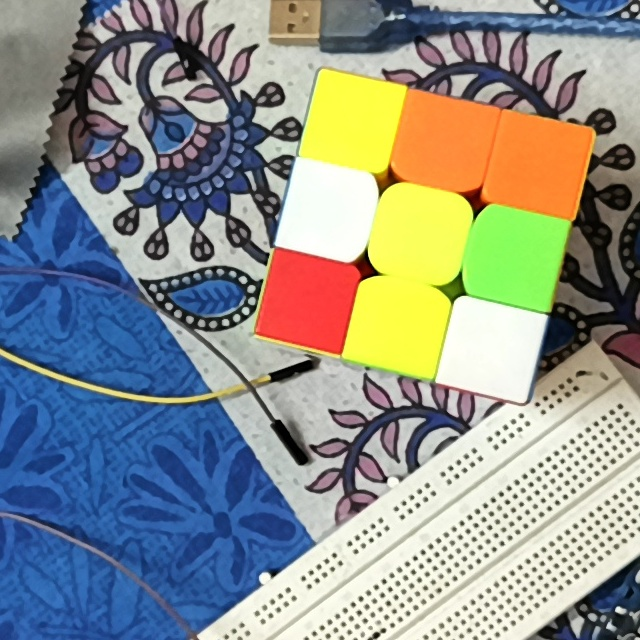tile: (500, 126, 575, 203), (454, 312, 526, 389), (480, 220, 553, 295), (405, 108, 481, 179), (271, 265, 344, 335), (297, 175, 365, 250), (318, 86, 384, 159), (358, 291, 435, 352), (386, 203, 454, 269)
